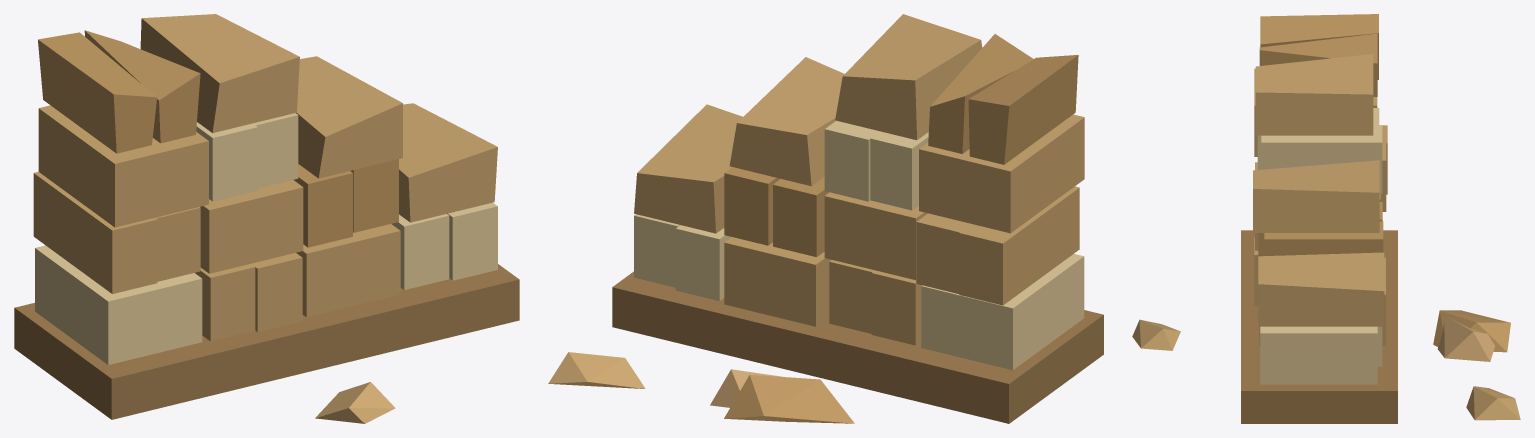
Rendered from desert_ruinwall_b.glb.
The picture shows the model from 3 angles, left to right: view 1: azimuth 30°, elevation 25°; view 2: azimuth 150°, elevation 25°; view 3: azimuth 270°, elevation 25°; orthographic projection. The views are drawn at different scales.
Visible parts, largest first — view 1: desert_ruinwall_b; view 2: desert_ruinwall_b; view 3: desert_ruinwall_b.
Boxes of the visible parts, x1,y1,x2,y2 form: desert_ruinwall_b: [14, 14, 519, 423]; desert_ruinwall_b: [548, 14, 1103, 423]; desert_ruinwall_b: [1132, 14, 1520, 423].
Bounding box in the file's own units: 2.08 × 1.54 × 2.13.
